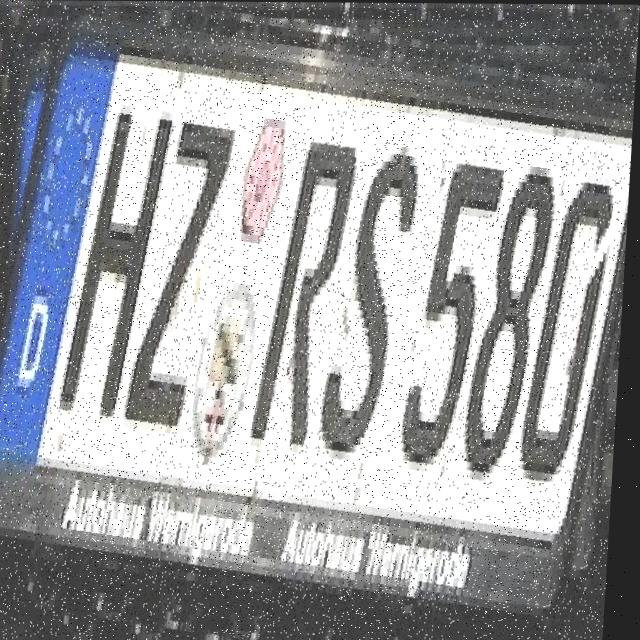LicensePlate: (0, 5, 640, 640)
